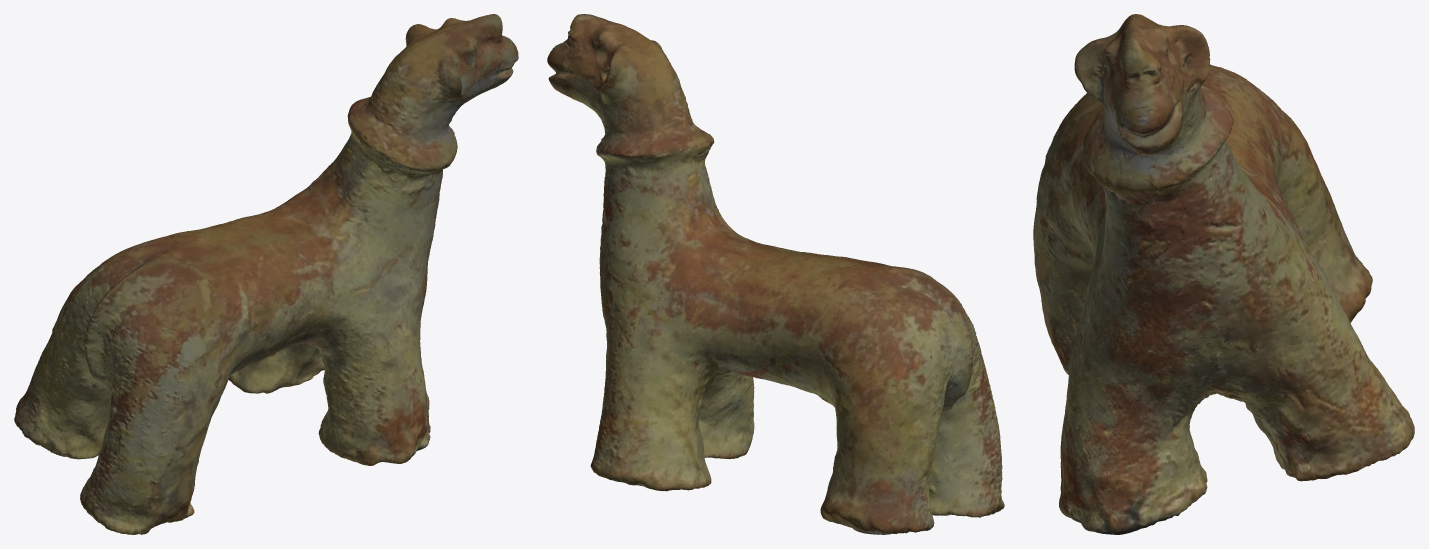
Rendered from preview.glb.
3 views of the same model, side by side, from view 1: azimuth 30°, elevation 25°; view 2: azimuth 150°, elevation 25°; view 3: azimuth 270°, elevation 25° (orthographic). The views are drawn at different scales.
Visible parts, largest first — view 1: Object_2; view 2: Object_2; view 3: Object_2.
Boxes of the visible parts, box(x1,y1,x2,y2) form: Object_2: box(14, 14, 518, 534); Object_2: box(547, 14, 1004, 534); Object_2: box(1033, 14, 1414, 534).
Bounding box in the file's own units: 322 × 288 × 180.
Materials: 1 (1 with a texture image).
